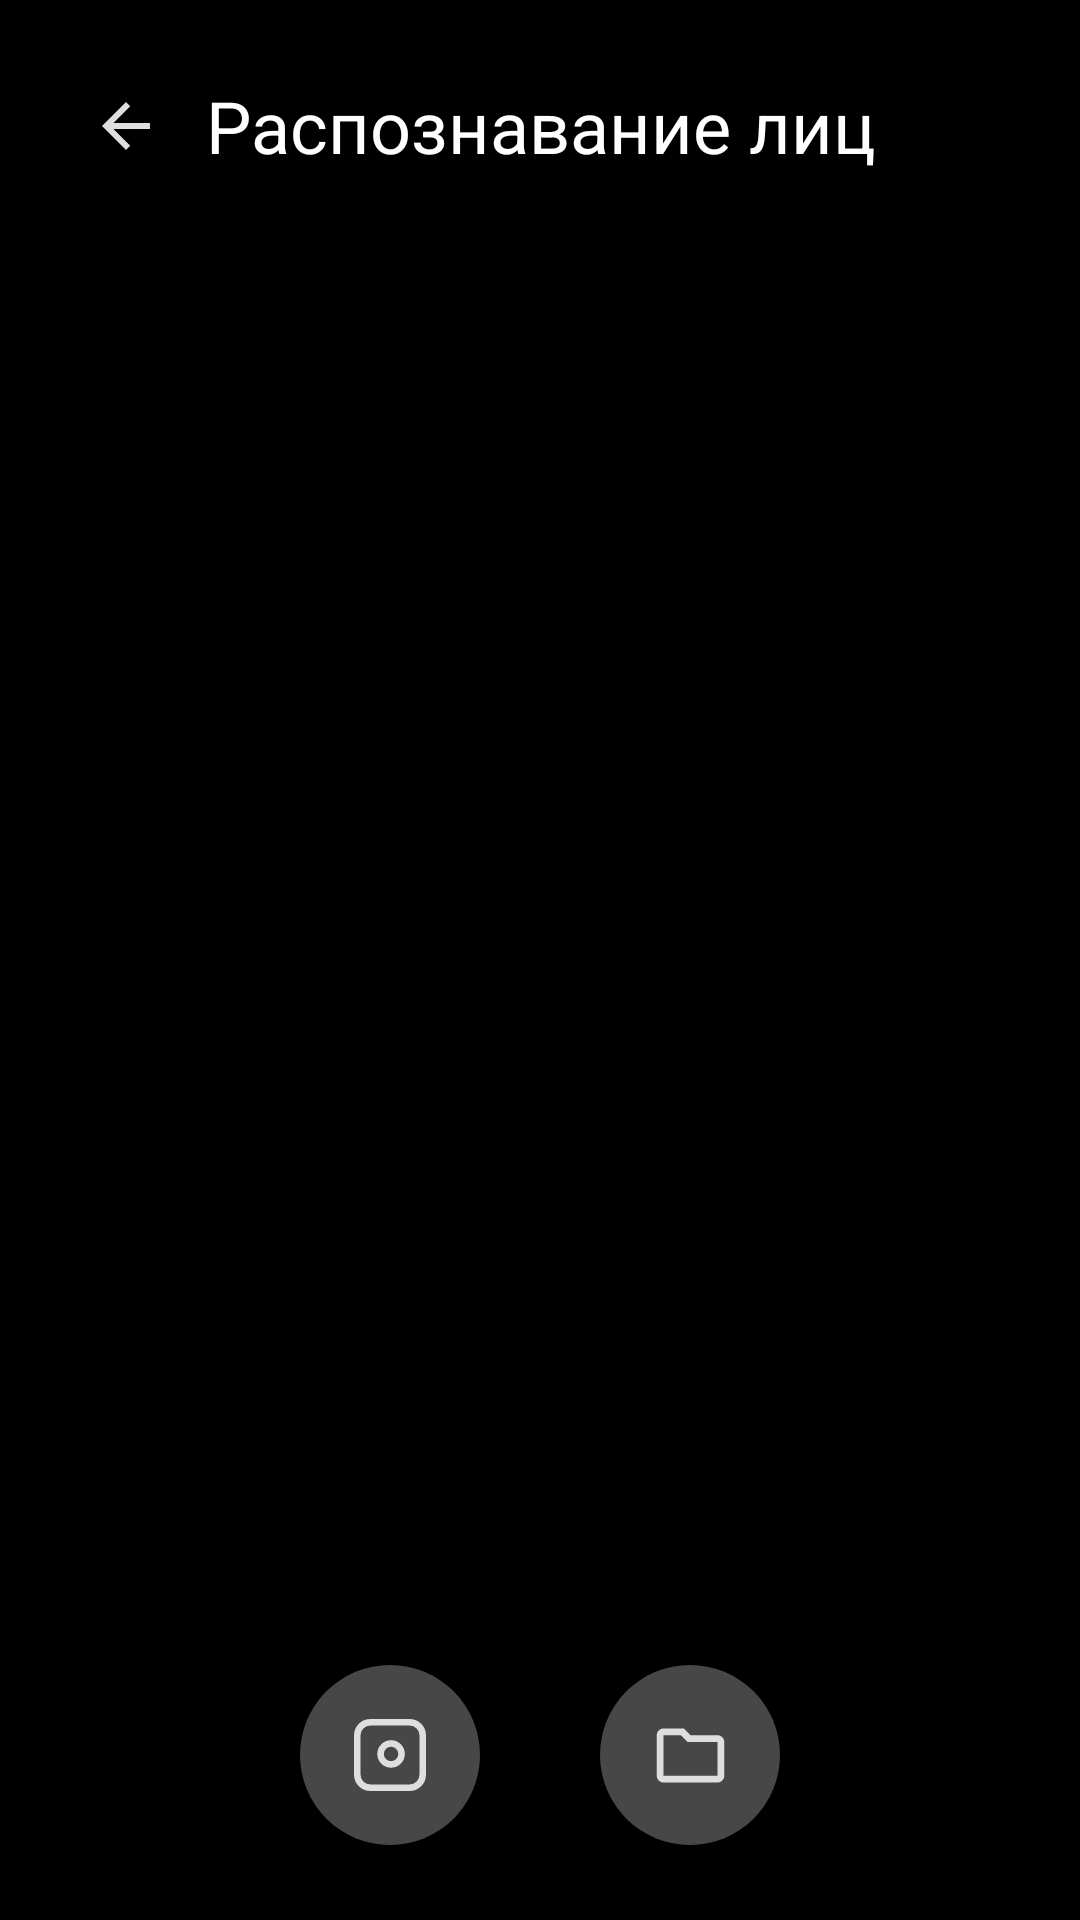

Icon click points for this 1080 x 1920 phone screenshot, format (x=x, y=y):
back: (x=126, y=126)
camera: (x=390, y=1755)
folder: (x=690, y=1755)
